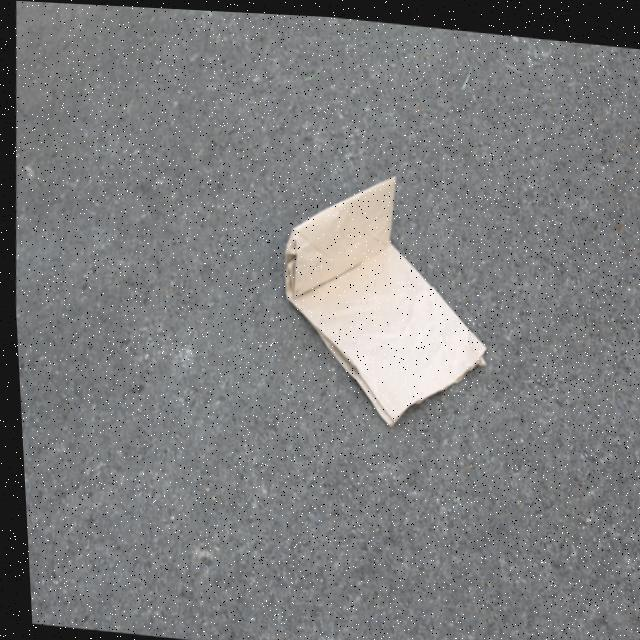Paper_Bag: (269, 160, 496, 434)
